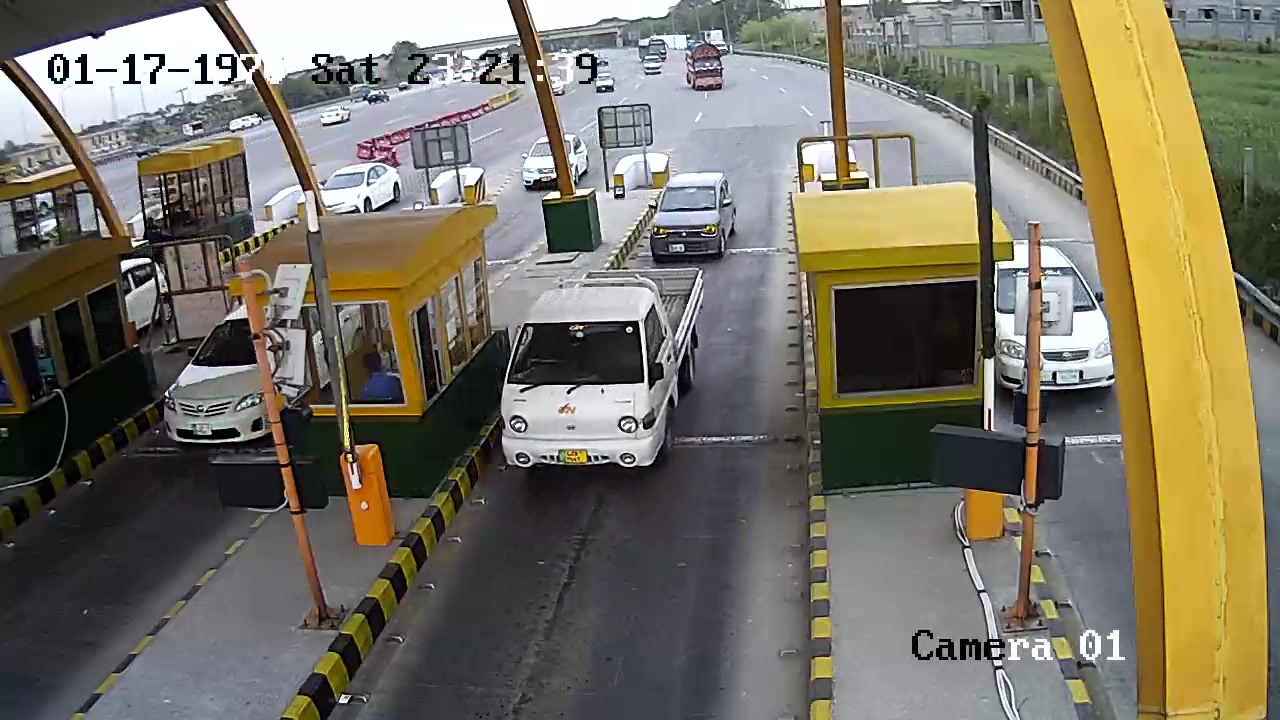F2: (498, 266, 718, 486)
